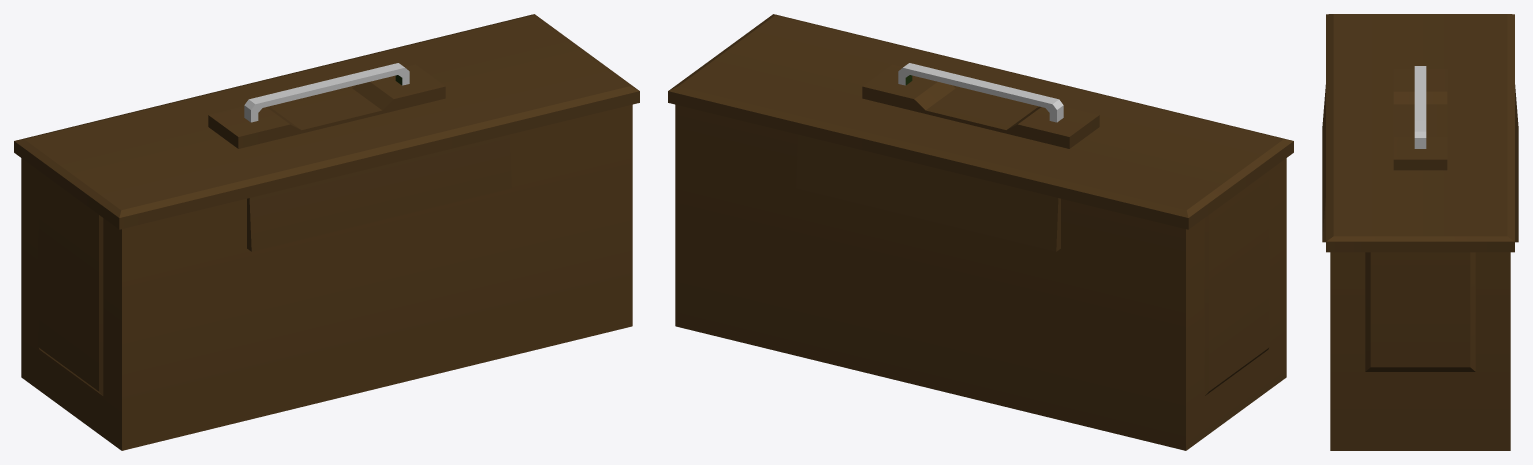
The model's file is Brown Ammo Box.fbx.
3 renders of one model, left to right at view 1: azimuth 30°, elevation 25°; view 2: azimuth 150°, elevation 25°; view 3: azimuth 270°, elevation 25°, orthographic. The views are drawn at different scales.
Visible parts, largest first — view 1: Green Ammo Box; view 2: Green Ammo Box; view 3: Green Ammo Box.
Part boxes in pixels (left/top/right/bottom): Green Ammo Box: left=14, top=14, right=639, bottom=450; Green Ammo Box: left=668, top=14, right=1293, bottom=450; Green Ammo Box: left=1322, top=14, right=1518, bottom=450.
Size of the model in its own units: 54.5 by 26.85 by 19.88.
